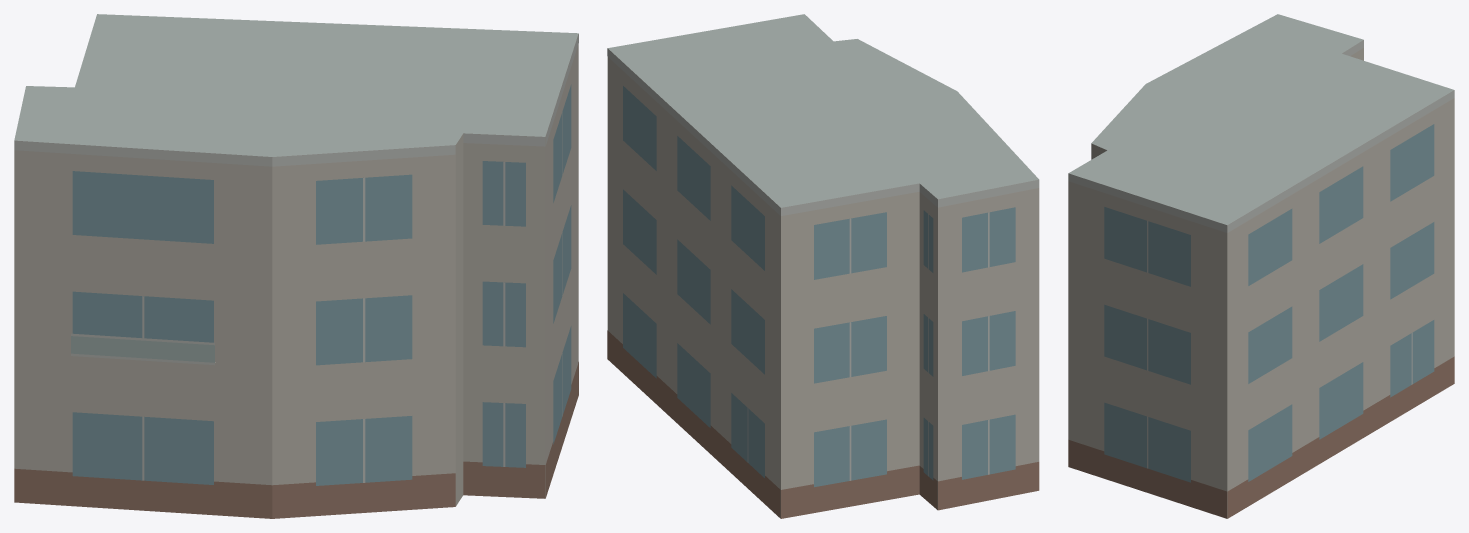
Rendered from survey-upis-32689389.glb.
3 views of the same model, side by side, from view 1: azimuth 30°, elevation 25°; view 2: azimuth 150°, elevation 25°; view 3: azimuth 270°, elevation 25° (orthographic). The views are drawn at different scales.
Visible parts, largest first — view 1: survey-upis-32689389.tmp; view 2: survey-upis-32689389.tmp; view 3: survey-upis-32689389.tmp.
Part boxes in pixels (<box>): survey-upis-32689389.tmp: <box>14,14,578,518</box>; survey-upis-32689389.tmp: <box>607,14,1039,518</box>; survey-upis-32689389.tmp: <box>1068,14,1454,518</box>.
Bounding box in the file's own units: 14.13 × 9.15 × 10.92.
